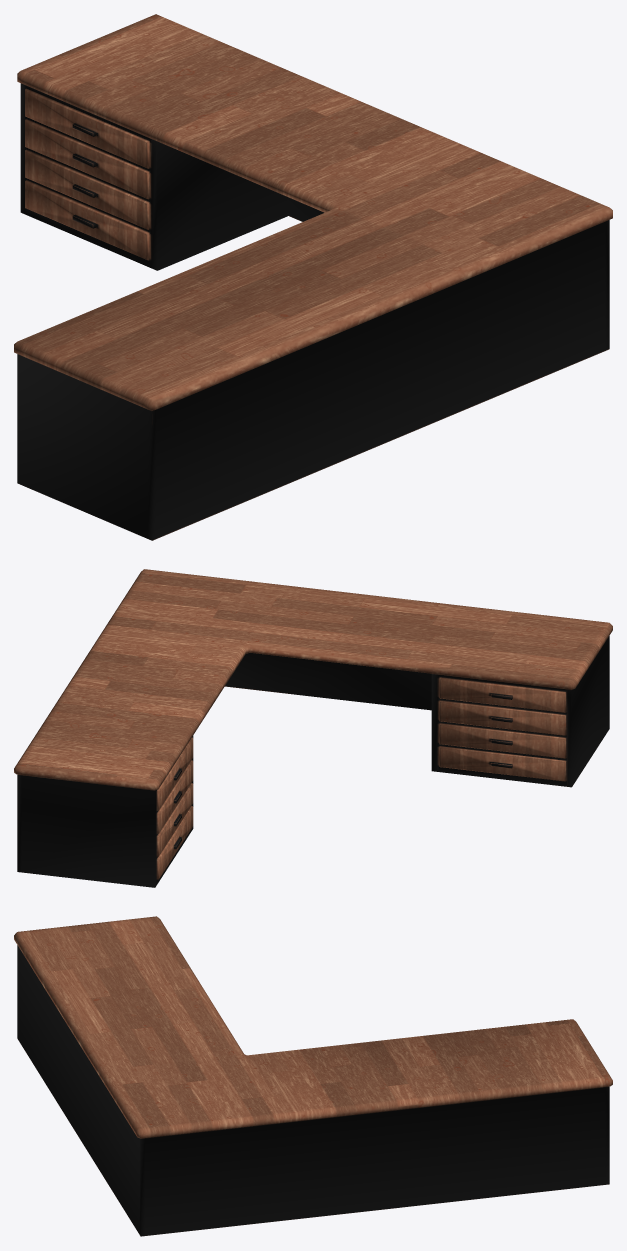
Rendered from OfficeDeskV4.fbx.
3 renders of one model, top to bottom at view 1: azimuth 30°, elevation 25°; view 2: azimuth 150°, elevation 25°; view 3: azimuth 270°, elevation 25°, orthographic. The views are drawn at different scales.
Parts seen in each view (by area): view 1: CornerTable; view 2: CornerTable; view 3: CornerTable.
Part boxes in pixels (bbox=[...]): CornerTable: bbox=[14, 14, 612, 540]; CornerTable: bbox=[14, 569, 612, 887]; CornerTable: bbox=[14, 916, 612, 1236].
Bounding box in the file's own units: 525 × 121 × 614.
Materials: 1 (1 with a texture image).
